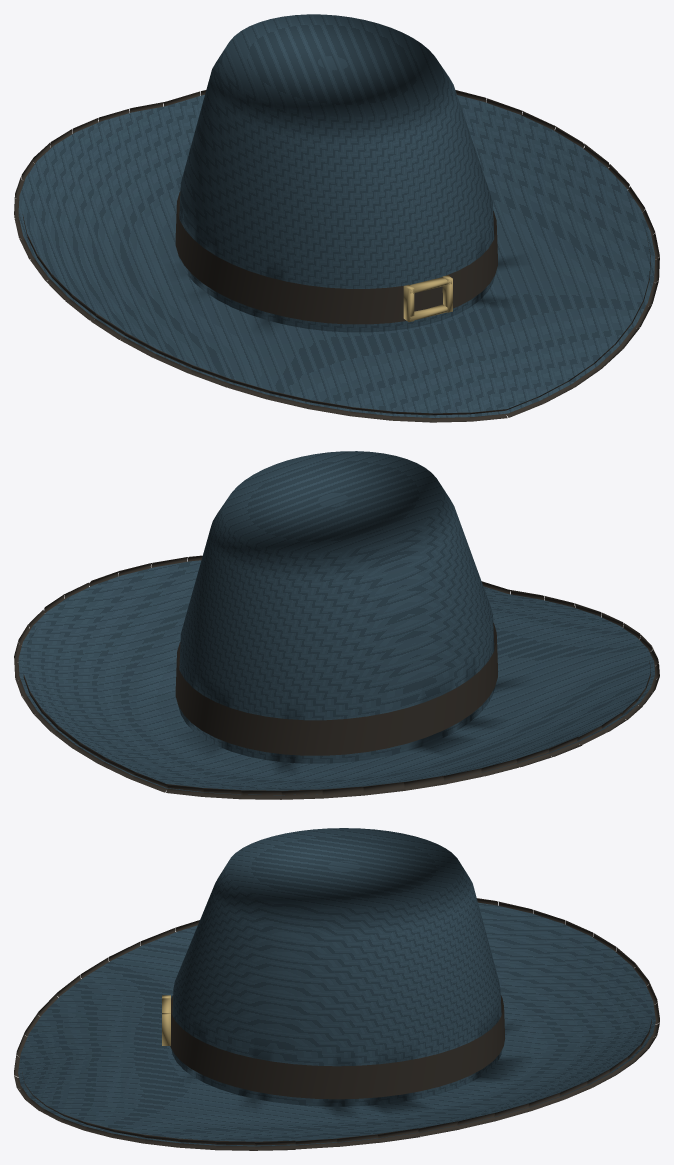
The picture shows the model from 3 angles, top to bottom: view 1: azimuth 30°, elevation 25°; view 2: azimuth 150°, elevation 25°; view 3: azimuth 270°, elevation 25°; orthographic projection. The views are drawn at different scales.
Visible parts, largest first — view 1: Trail_Hat; view 2: Trail_Hat; view 3: Trail_Hat.
Boxes of the visible parts, x1,y1,x2,y2 form: Trail_Hat: (14, 14, 659, 422); Trail_Hat: (14, 451, 659, 799); Trail_Hat: (14, 828, 659, 1150).
Bounding box in the file's own units: 0.5052 × 0.201 × 0.5569.
3 materials, 1 textured.
